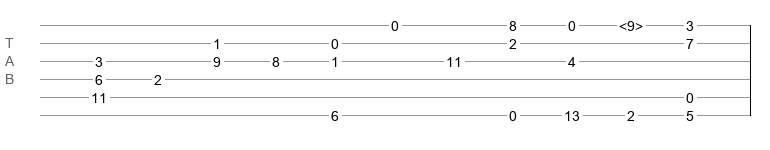0: (331, 36, 339, 46), (391, 18, 399, 28), (509, 108, 517, 118), (568, 18, 576, 28), (686, 90, 694, 100)
1: (213, 36, 221, 46), (331, 54, 339, 64)
11: (91, 90, 107, 100), (446, 54, 462, 64)
13: (564, 108, 580, 118)
2: (154, 72, 162, 82), (509, 36, 517, 46), (627, 108, 635, 118)
3: (95, 54, 103, 64), (686, 18, 694, 28)
4: (568, 54, 576, 64)
5: (686, 108, 694, 118)
6: (95, 72, 103, 82), (331, 108, 339, 118)
7: (686, 36, 694, 46)
8: (272, 54, 280, 64), (509, 18, 517, 28)
9: (213, 54, 221, 64)
harmonic: (619, 18, 643, 28)
